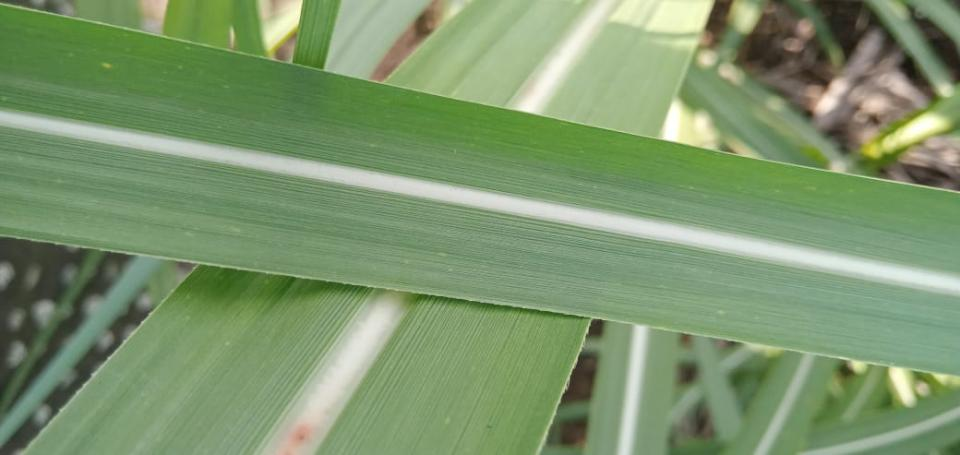Healthy: (0, 3, 959, 279), (0, 128, 959, 373), (22, 262, 378, 454), (316, 291, 593, 454), (543, 0, 711, 139), (379, 0, 594, 108), (586, 320, 635, 454), (634, 327, 677, 454), (294, 0, 340, 67)
RedRot: (293, 427, 306, 446)
